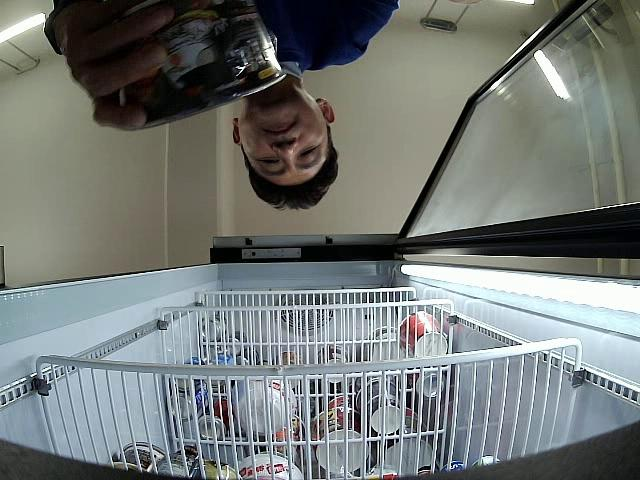00_hand: (56, 0, 172, 131)
07_buldak_L: (120, 0, 286, 129)
